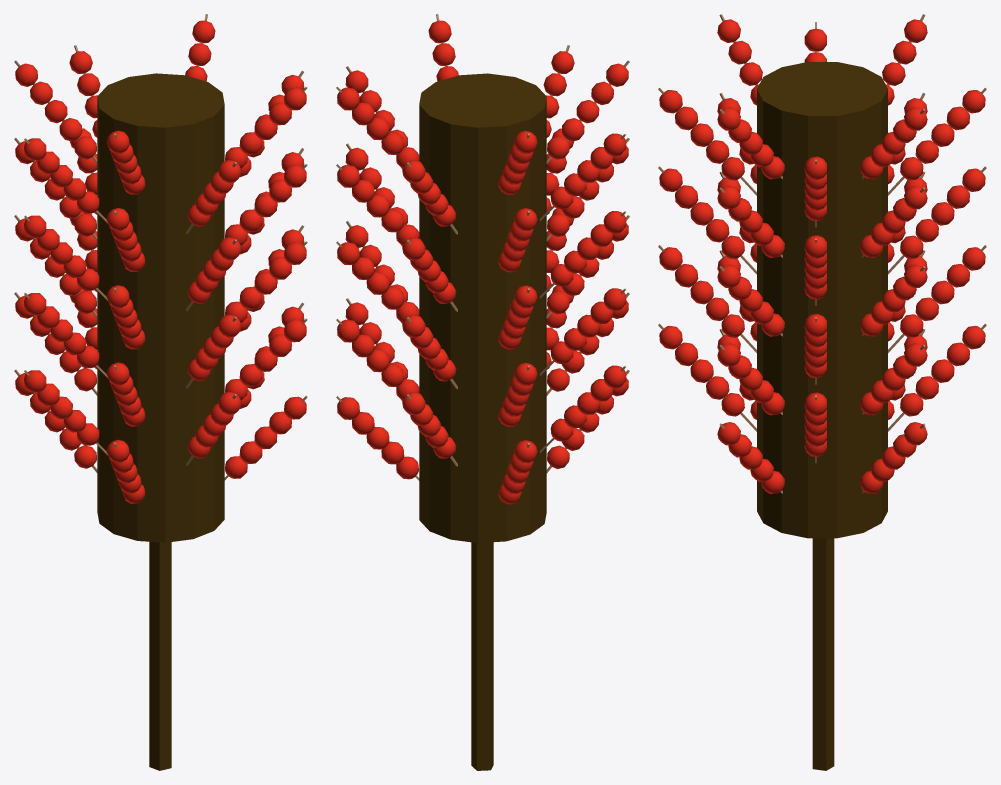
File: tanghulu.fbx
The picture shows the model from 3 angles, left to right: view 1: azimuth 30°, elevation 25°; view 2: azimuth 150°, elevation 25°; view 3: azimuth 270°, elevation 25°; orthographic projection.
Parts seen in each view (by area): view 1: Cylinder, Cube, Cube.002, Cube.001, Cylinder.001; view 2: Cylinder, Cube, Cube.002, Cube.001, Cylinder.001; view 3: Cylinder, Cube, Cube.001, Cube.002, Cylinder.001.
Part boxes in pixels (box(x1,y1,x2,y2)): Cylinder: box(97, 73, 224, 542); Cube: box(14, 14, 307, 503); Cube.002: box(24, 70, 304, 455); Cube.001: box(69, 45, 241, 466); Cylinder.001: box(149, 541, 171, 770); Cylinder: box(419, 73, 546, 543); Cube: box(336, 14, 629, 504); Cube.002: box(345, 66, 626, 453); Cube.001: box(402, 45, 574, 466); Cylinder.001: box(471, 542, 493, 770); Cylinder: box(757, 62, 887, 538); Cube: box(717, 14, 927, 493); Cube.001: box(658, 88, 986, 431); Cube.002: box(804, 22, 826, 463); Cylinder.001: box(812, 538, 834, 770).
Bounding box in the file's own units: 471 × 1115 × 471.
